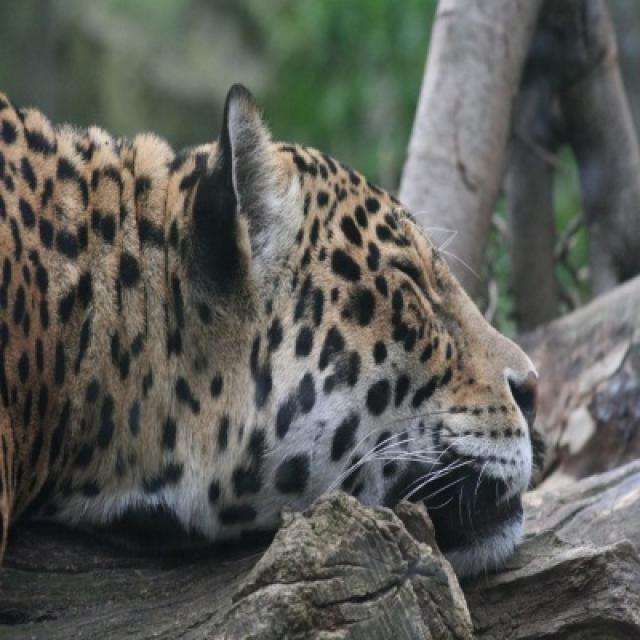Jaguar: (0, 80, 544, 570)
